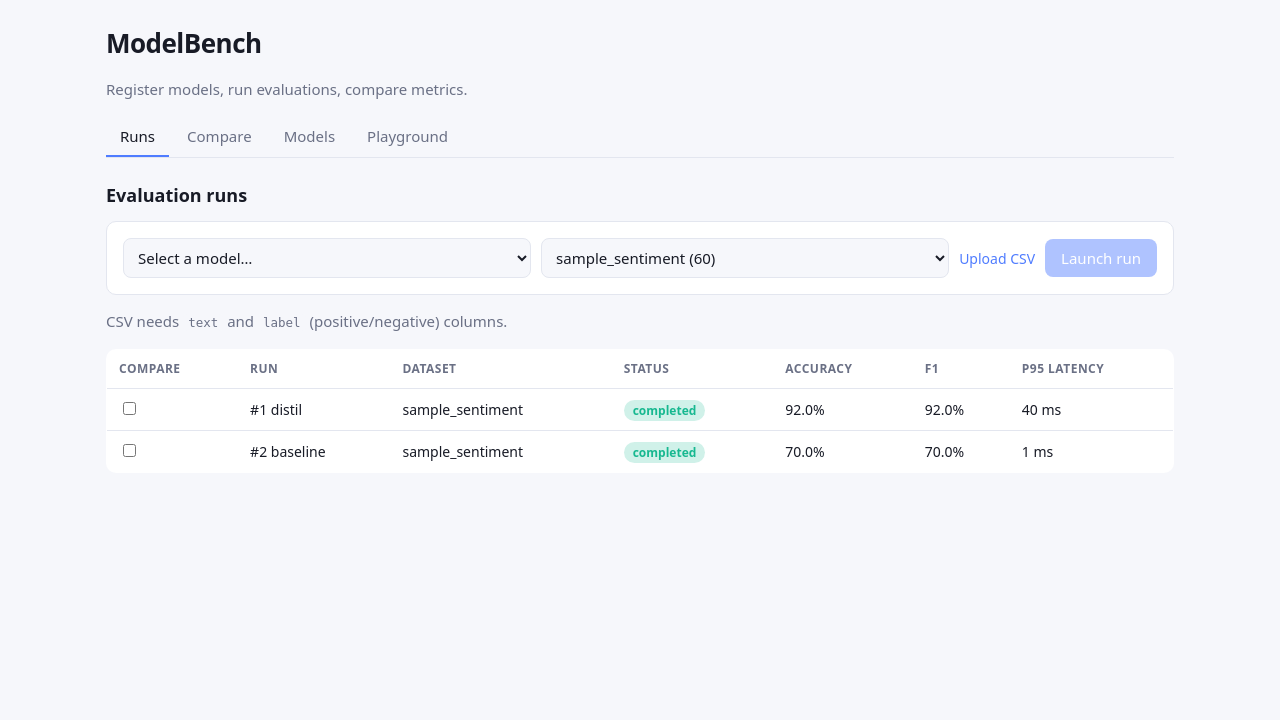
Test: lists runs, selects two, and shows the comparison with the best F1 highlighted
Expected: the text "#1 distil" is shown, [238,388,390,430]
Click the checkbox named "Compare run 1".
click(130, 408)  # box [123,402,136,415]
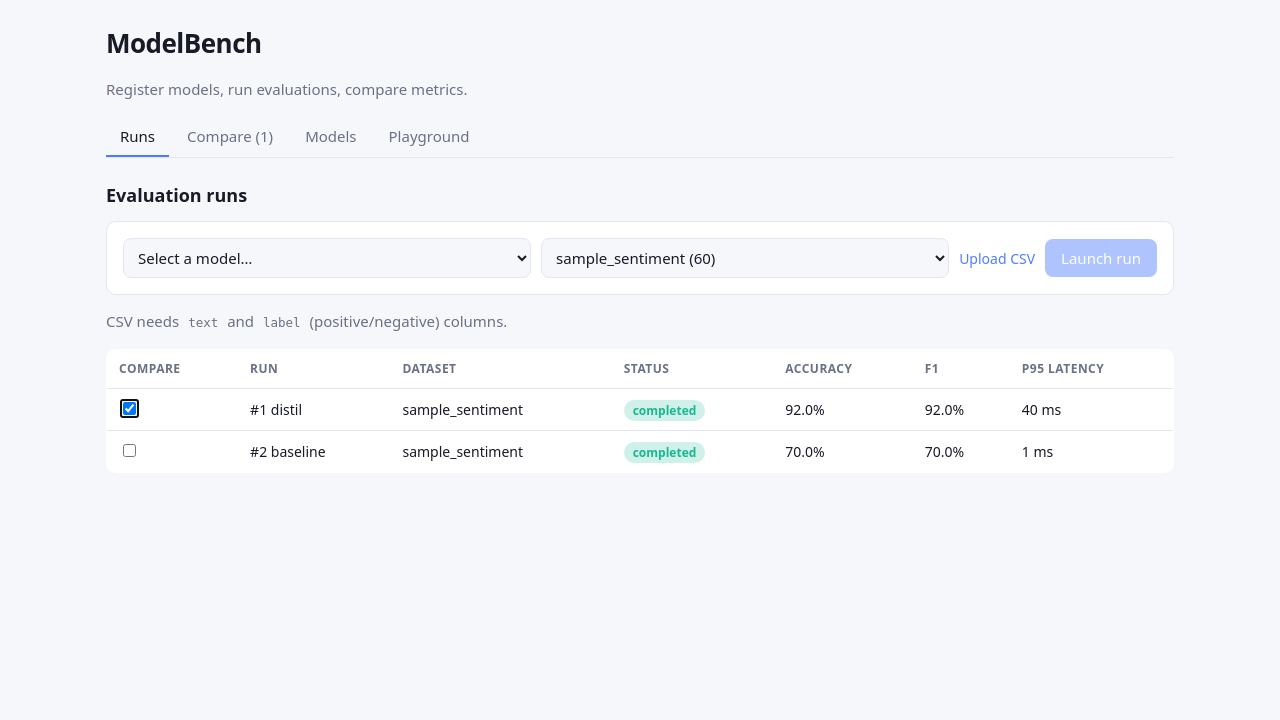
Click the checkbox named "Compare run 2".
click(130, 450)  # box [123,444,136,457]
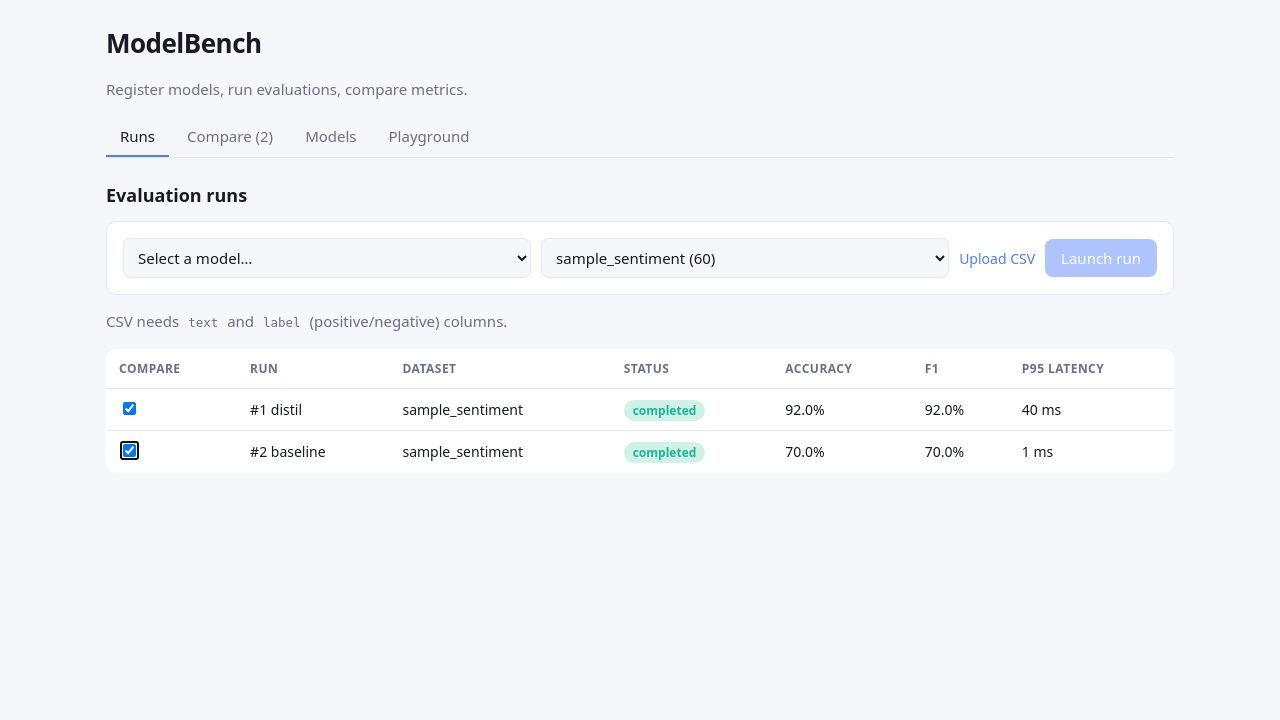
Click the tab "Compare (2)".
click(230, 137)  # box [173,116,287,157]
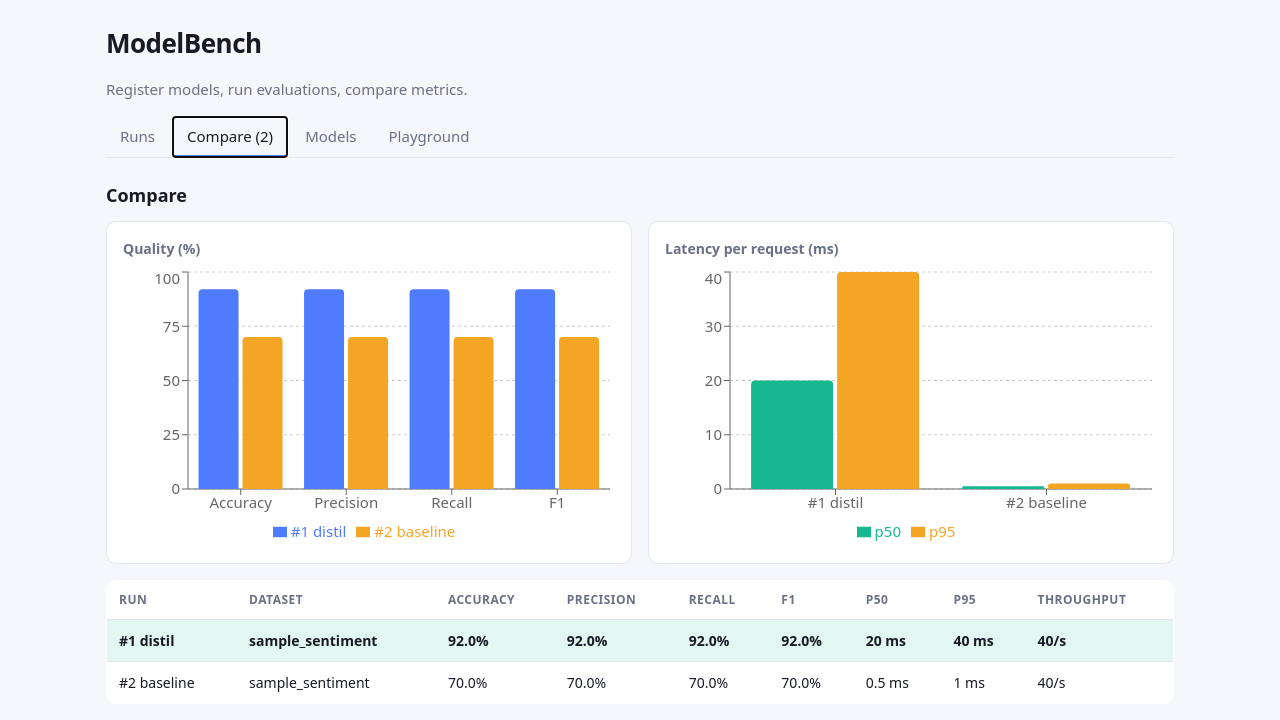
Expected: the picture named "Quality metrics by run" is shown, [123,267,615,547]
